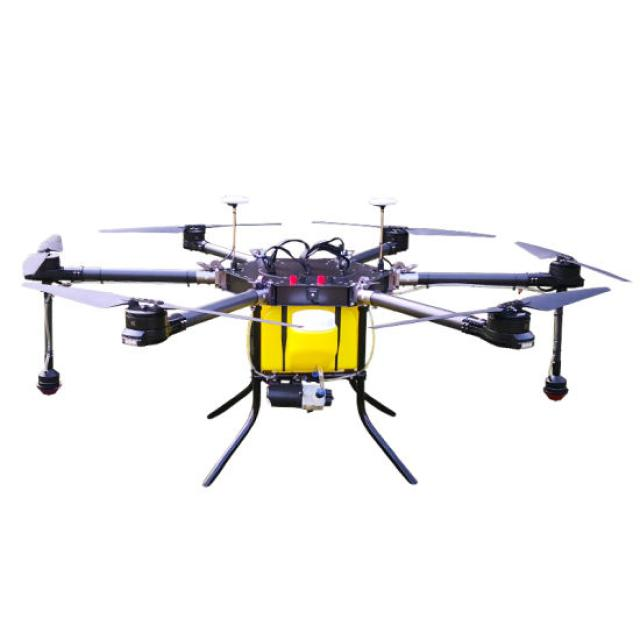drone: (0, 199, 640, 476)
